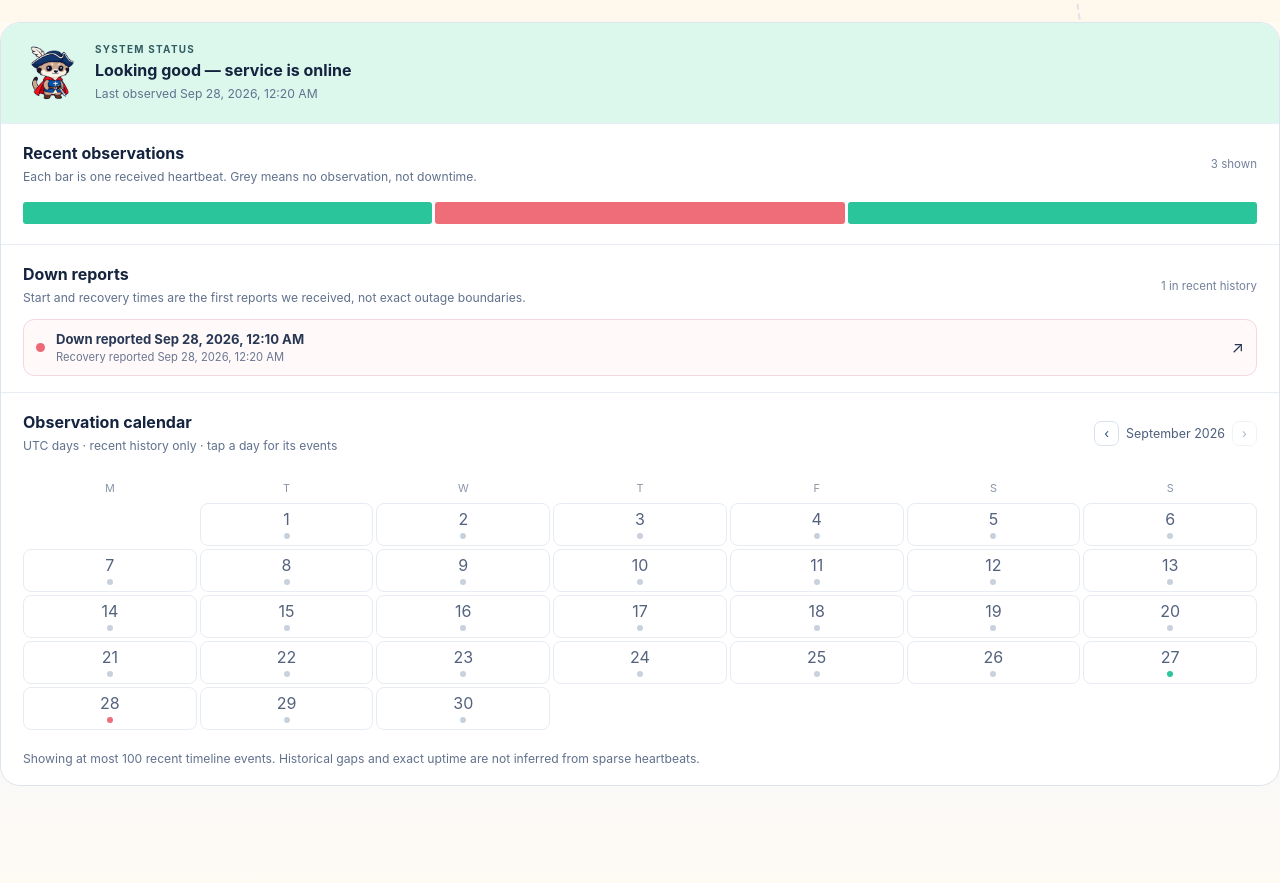
Test: AvailabilityBoard › opens a UTC day and keeps days without observations distinct from online days
This screenshot has width=1280, height=883.
Click the button named "2026-09-28: offline reported". click: (110, 708)
box: x1=23 y1=686 x2=197 y2=730
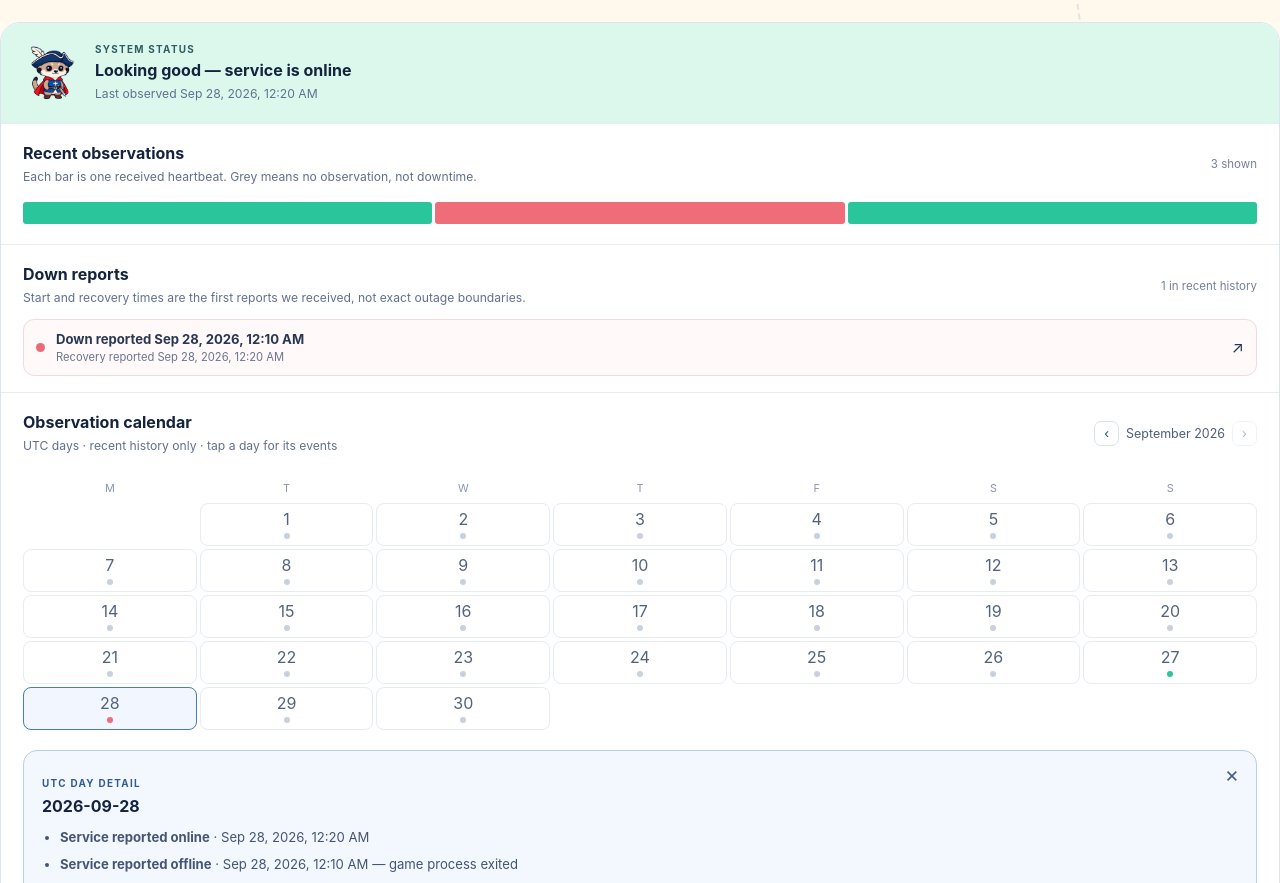
Check: the heading "2026-09-28" is shown, box x1=42 y1=796 x2=140 y2=816
Check: the list item "game process exited" is shown, box x1=368 y1=856 x2=518 y2=872
Click the button named "2026-09-26: no heartbeat observation". click: (993, 662)
box: x1=907 y1=640 x2=1080 y2=684
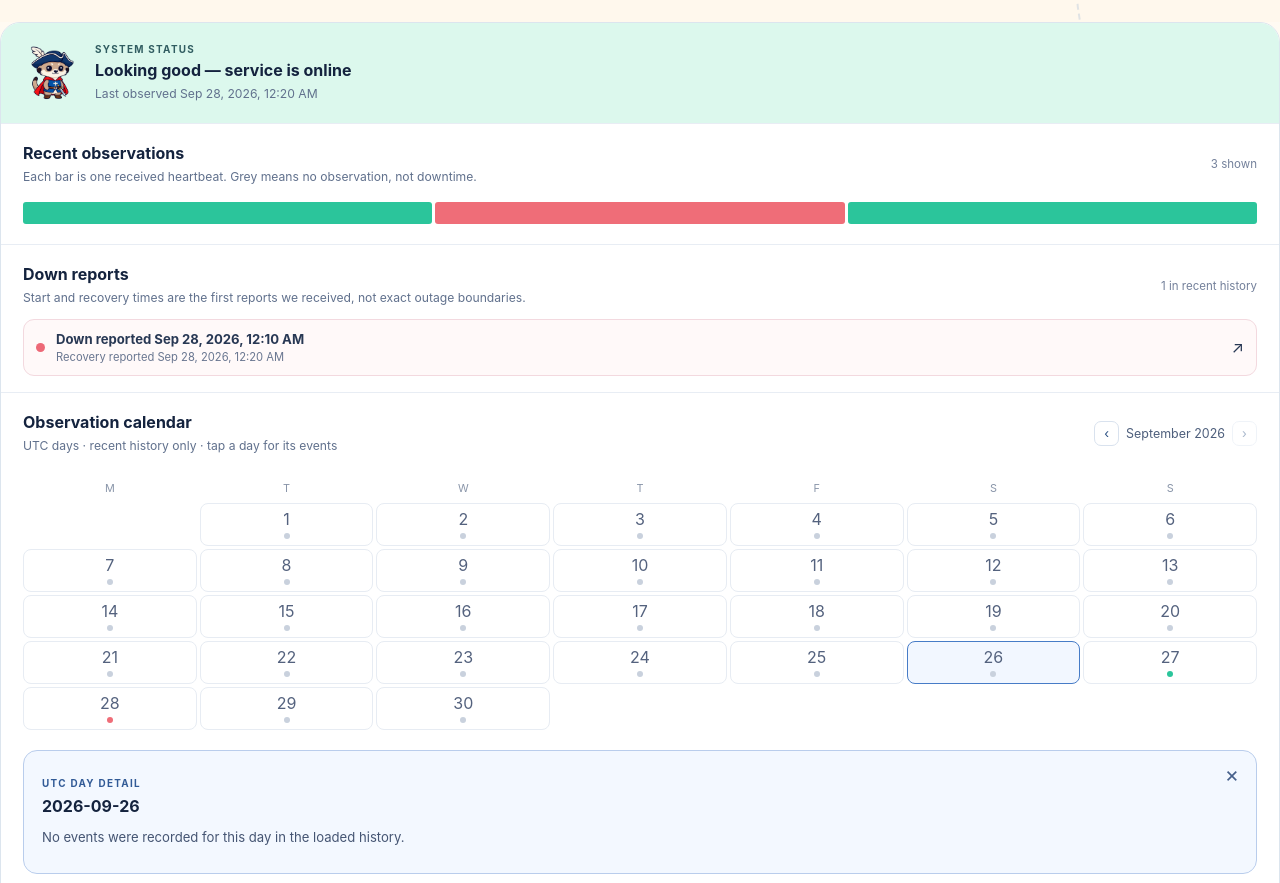
Check: the text "No events were recorded for this day in the loaded history." is shown, box x1=42 y1=829 x2=405 y2=845
